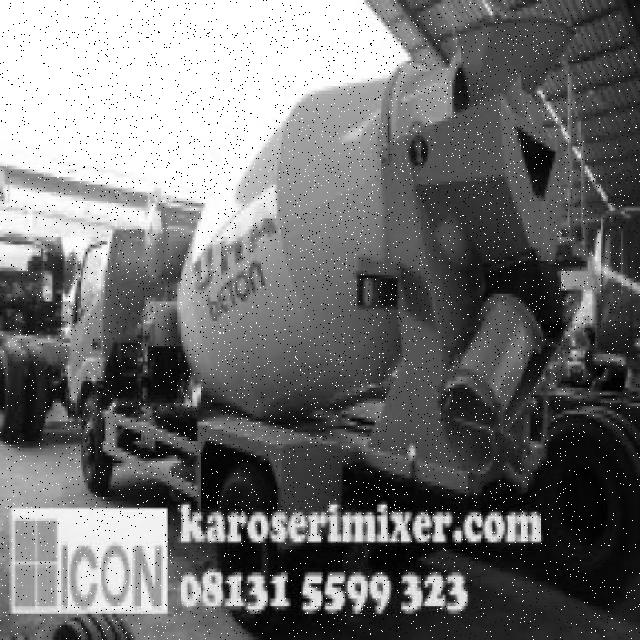Concrete Mixer: (66, 19, 574, 518)
